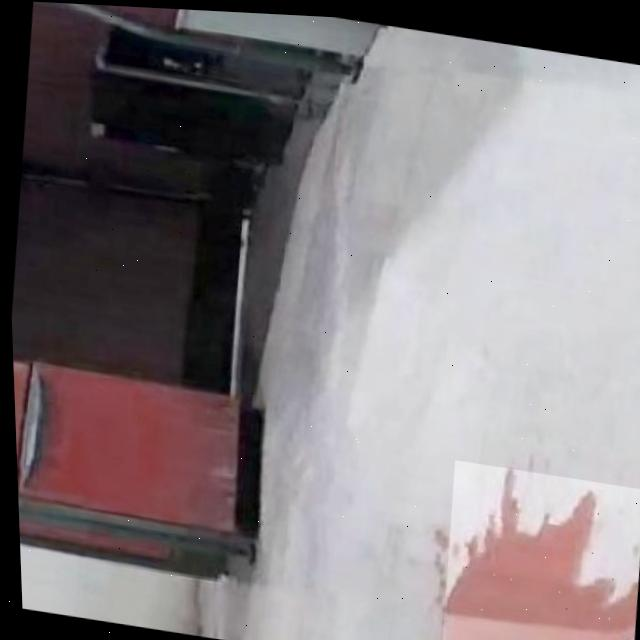spillage: (436, 463, 633, 640)
